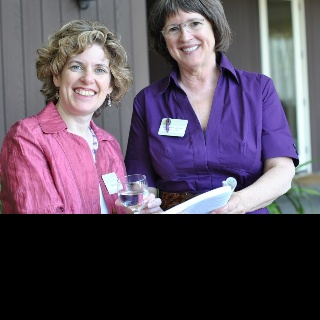without_mask: (58, 43, 110, 110), (163, 6, 215, 67)
